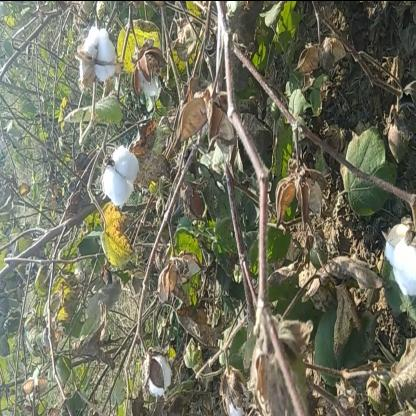cotton_ready: (380, 199, 416, 329), (98, 130, 146, 209), (68, 22, 122, 88), (136, 335, 188, 403)
